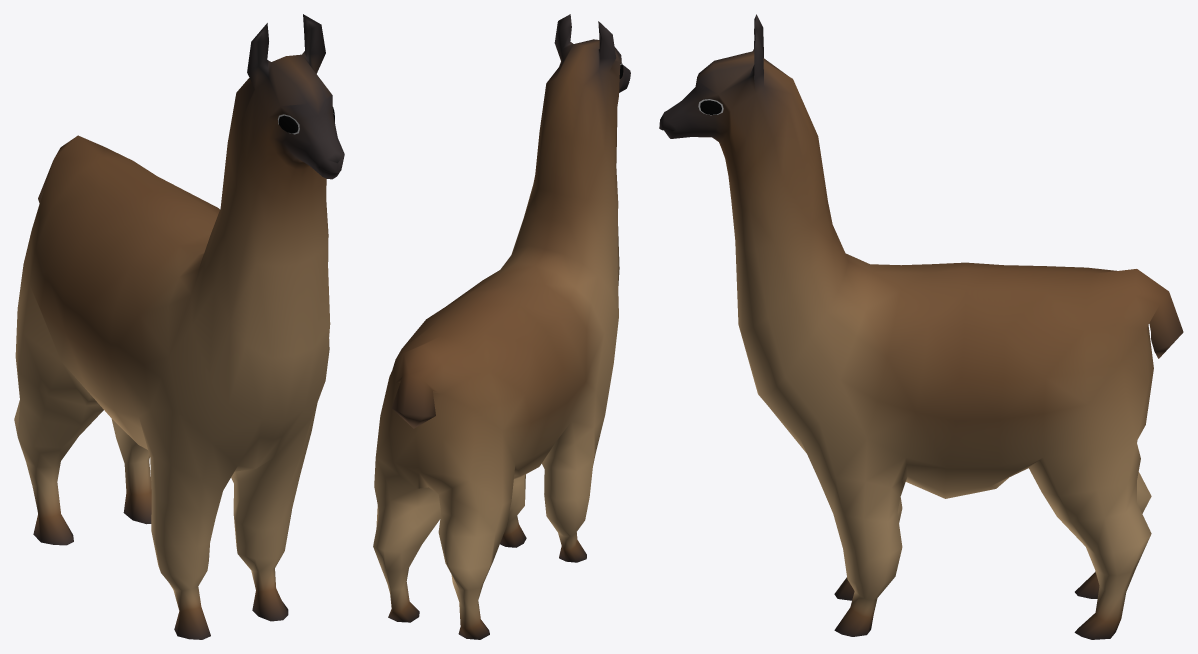
3 renders of one model, left to right at view 1: azimuth 30°, elevation 25°; view 2: azimuth 150°, elevation 25°; view 3: azimuth 270°, elevation 25°, orthographic. The views are drawn at different scales.
Parts seen in each view (by area): view 1: alt600; view 2: alt600; view 3: alt600.
Part boxes in pixels (bbox=[...]): alt600: bbox=[14, 14, 344, 639]; alt600: bbox=[373, 14, 630, 639]; alt600: bbox=[659, 14, 1183, 639].
Bounding box in the file's own units: 0.1442 × 0.5 × 0.4024.
